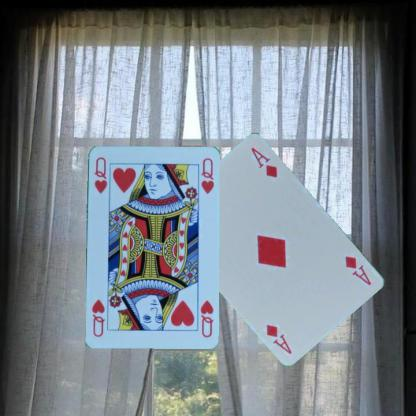Ad: (343, 253, 373, 287)
Qh: (91, 154, 108, 195), (198, 298, 215, 338)
